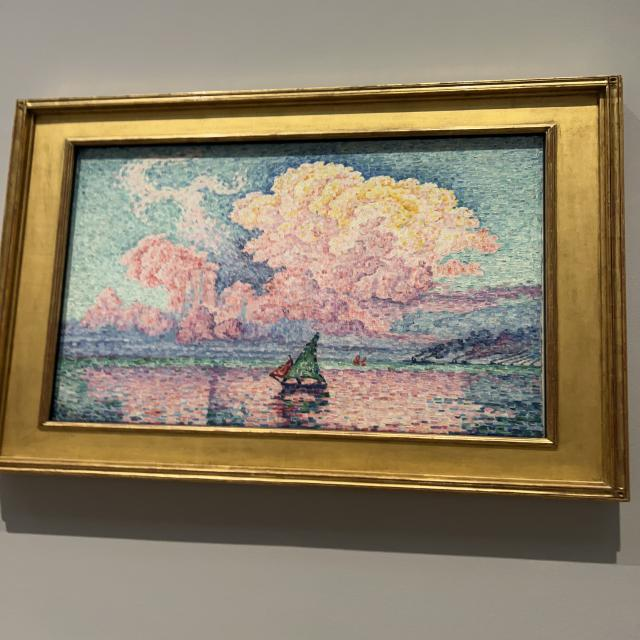sunrise: (58, 151, 535, 432)
